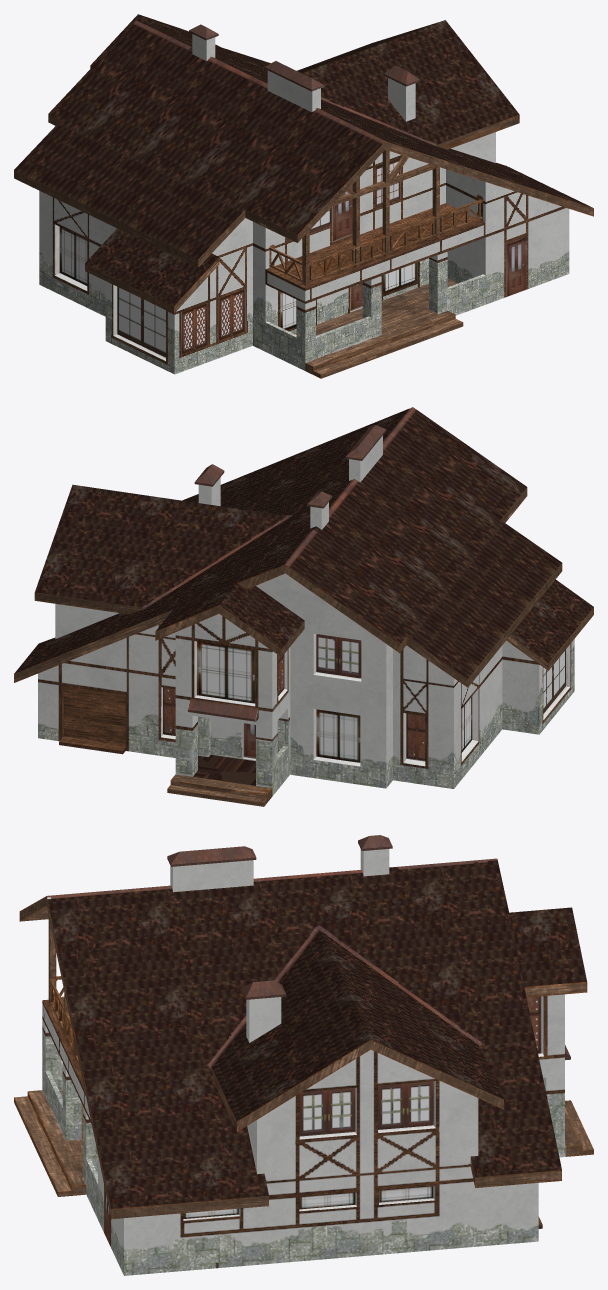
Rendered from Alpine_chalet.gltf.
The picture shows the model from 3 angles, top to bottom: view 1: azimuth 30°, elevation 25°; view 2: azimuth 150°, elevation 25°; view 3: azimuth 270°, elevation 25°; orthographic projection. The views are drawn at different scales.
Parts seen in each view (by area): view 1: Alpine chalet; view 2: Alpine chalet; view 3: Alpine chalet.
Boxes of the visible parts, x1,y1,x2,y2 form: Alpine chalet: (14, 14, 593, 378); Alpine chalet: (14, 407, 593, 806); Alpine chalet: (14, 835, 593, 1275).
Size of the model in its own units: 10.67 by 5.34 by 9.82.
1 material, 1 textured.
